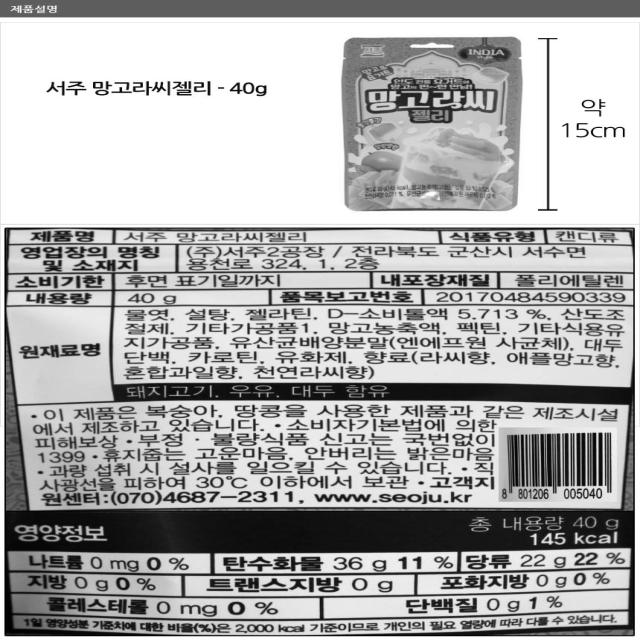Nutrition Label: (3, 501, 640, 636)
